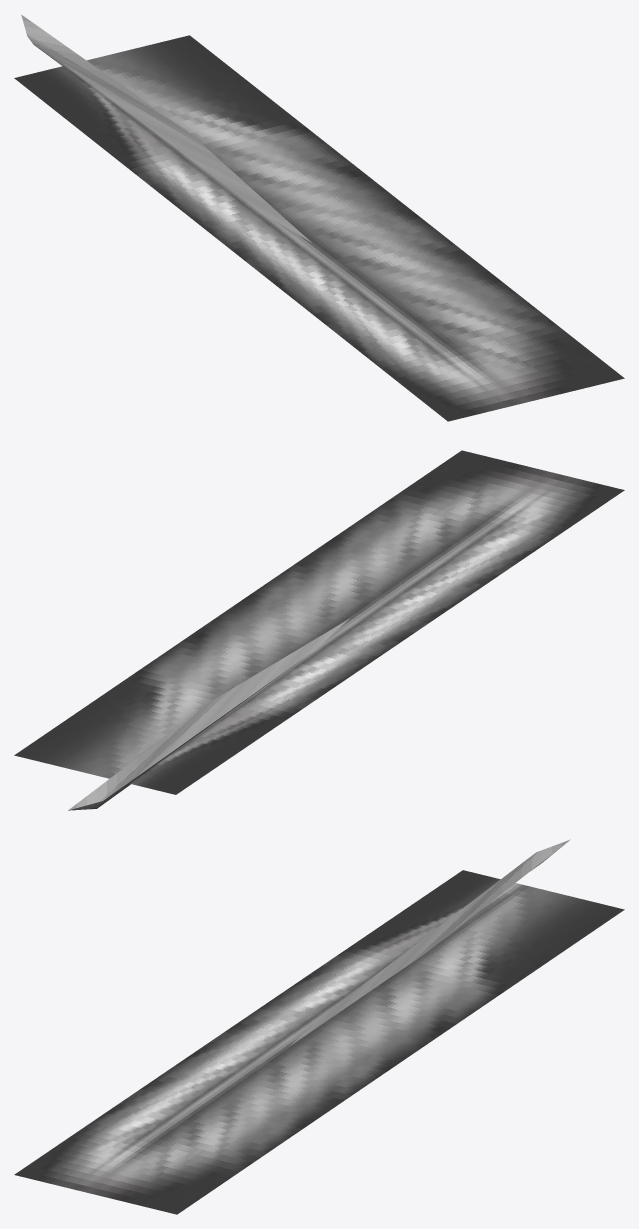
File: pir_m_hnd_tol_pen.fbx
3 renders of one model, top to bottom at view 1: azimuth 30°, elevation 25°; view 2: azimuth 150°, elevation 25°; view 3: azimuth 330°, elevation 25°, orthographic. The views are drawn at different scales.
Visible parts, largest first — view 1: feather1, feather, quill; view 2: feather1, feather, quill; view 3: feather1, feather, quill.
Boxes of the visible parts, x1=… form: feather1: x1=14, y1=35, x2=624, y2=421; feather: x1=16, y1=36, x2=622, y2=420; quill: x1=21, y1=14, x2=311, y2=242; feather1: x1=14, y1=450, x2=624, y2=794; feather: x1=16, y1=451, x2=624, y2=794; quill: x1=68, y1=618, x2=349, y2=810; feather1: x1=14, y1=870, x2=624, y2=1214; feather: x1=15, y1=870, x2=623, y2=1214; quill: x1=289, y1=839, x2=570, y2=1046.
Size of the model in its own units: 25.35 by 1.44 by 112.
1 material, 1 textured.
